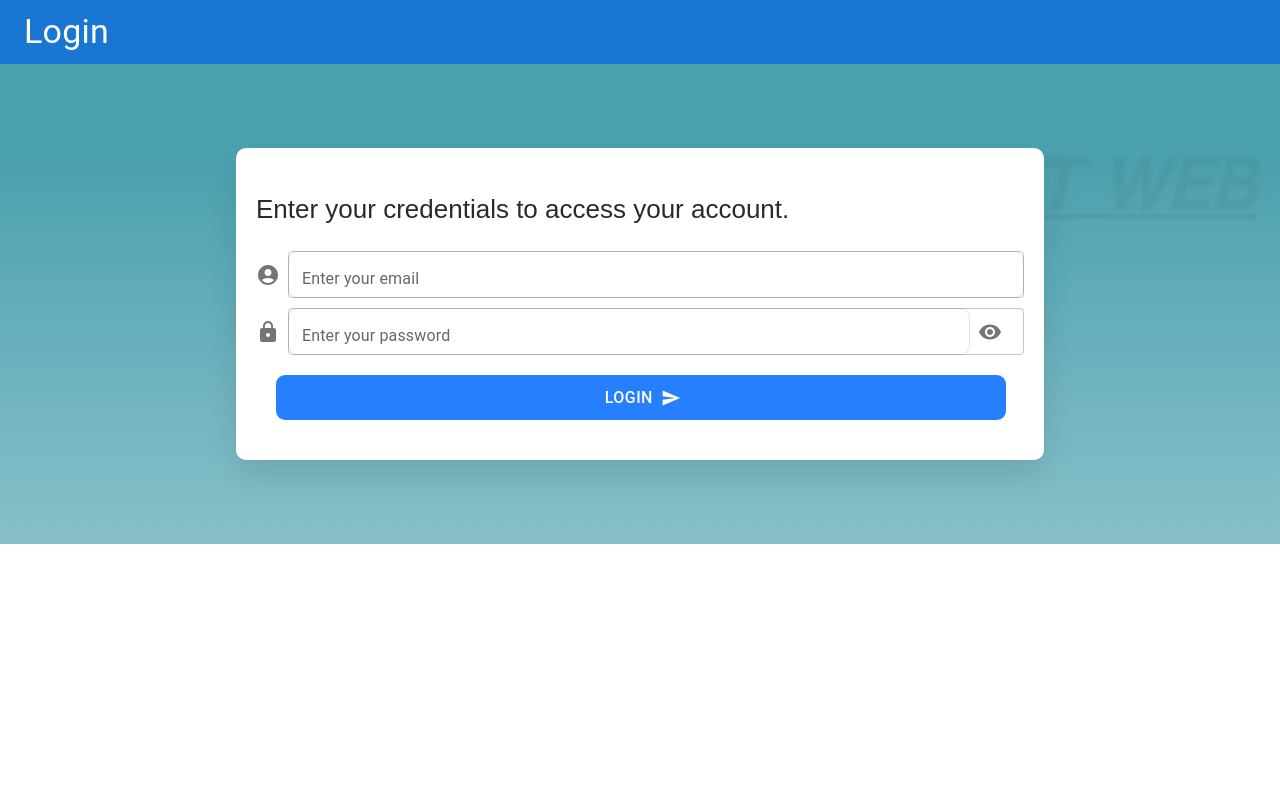
it: Test - input error case › input password length < 8
The image size is (1280, 800).
In the field labelled "Enter your email": (656, 274) [288,251,1024,298], type "demouser@test.com"
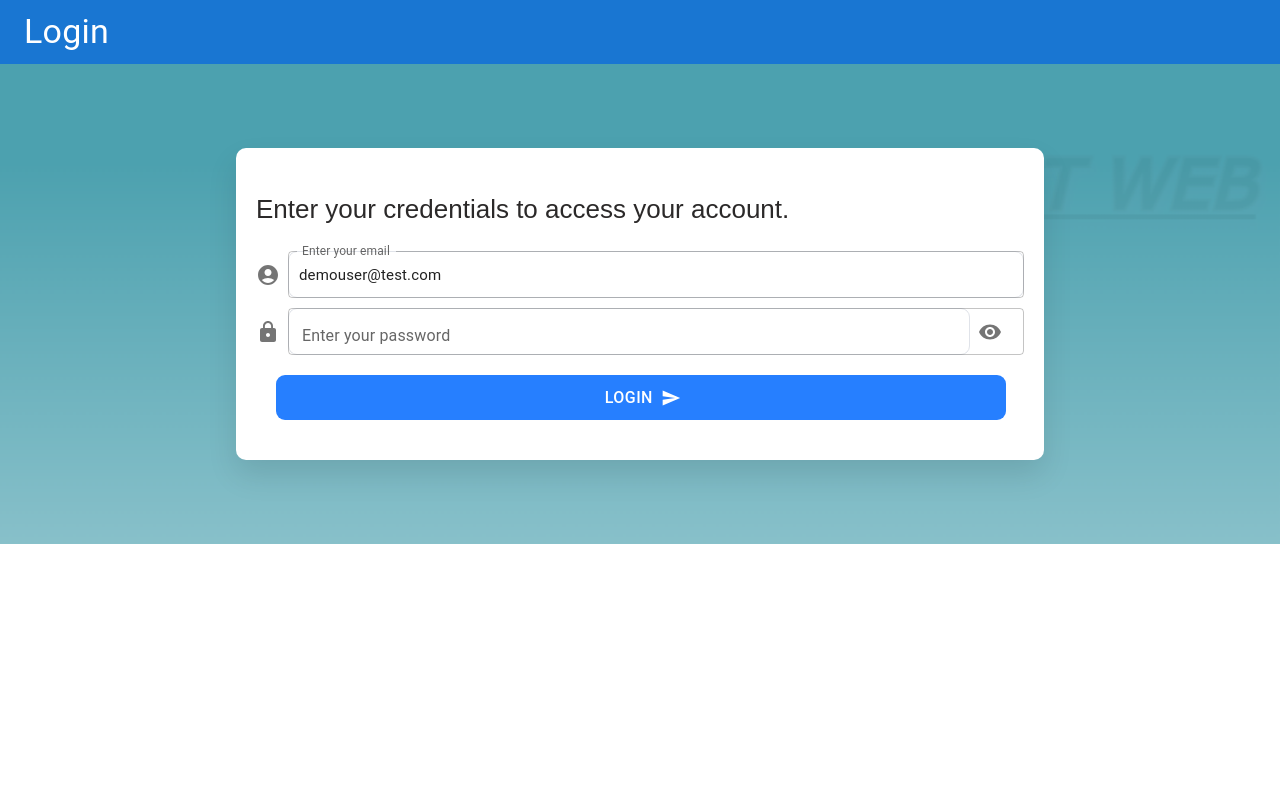
In the password field labelled "Enter your password": (629, 332) [288,308,970,355], type "test"
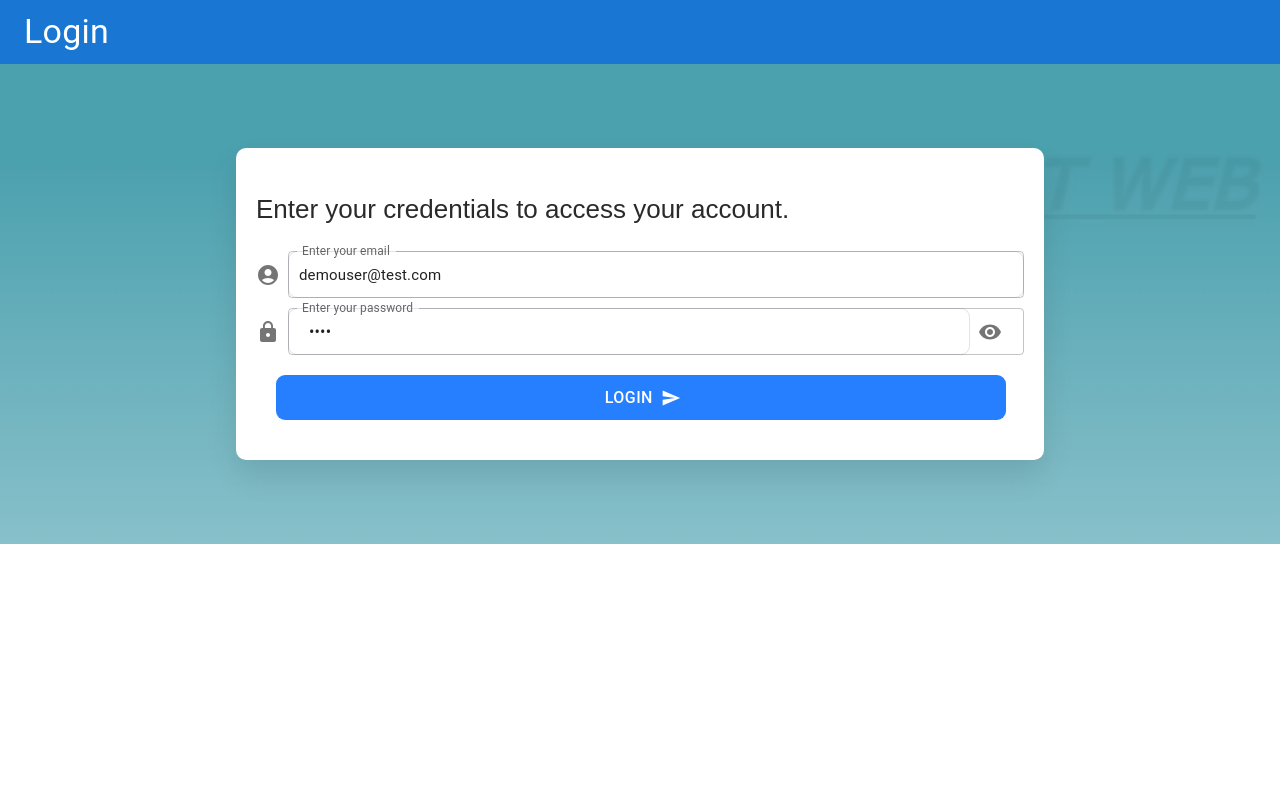
Click the button "Login": click(641, 398) [276,375,1006,420]
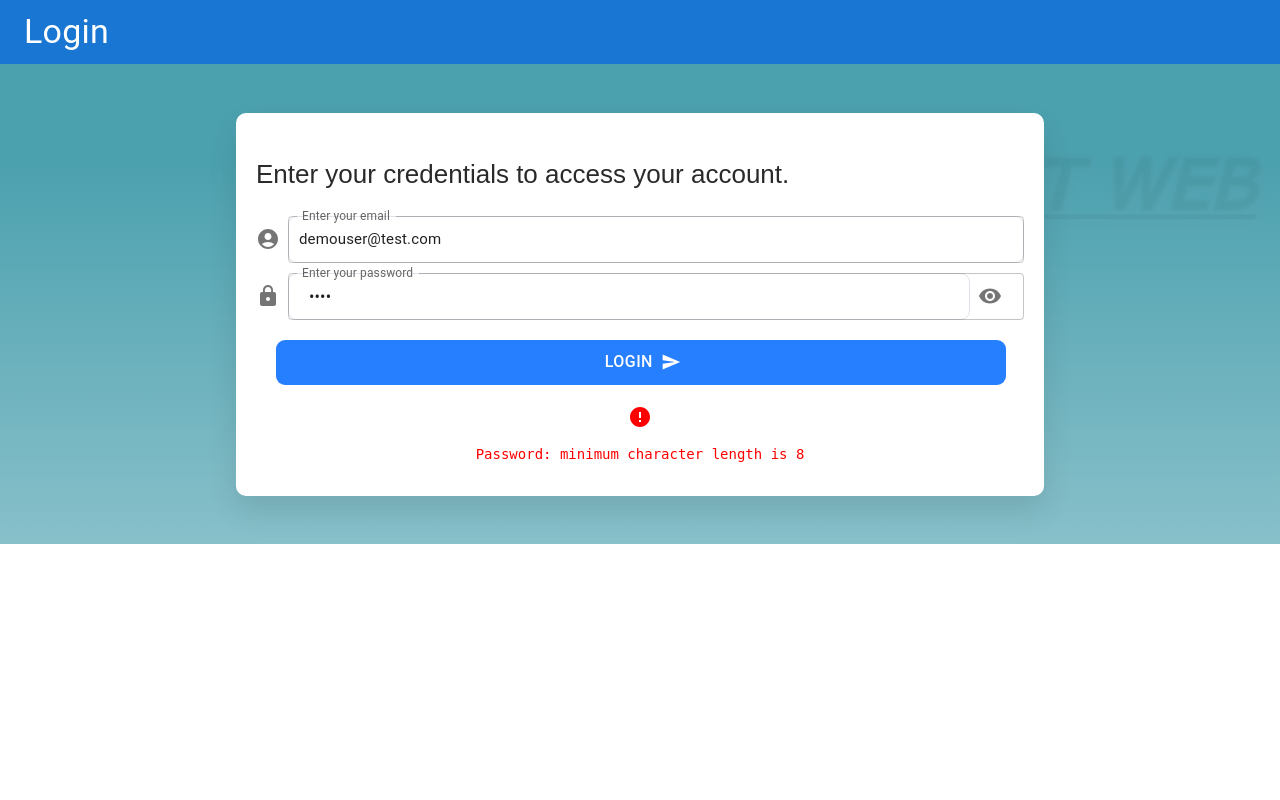
Now the message reads "Password: minimum character length is 8", box [476,446,804,462]
